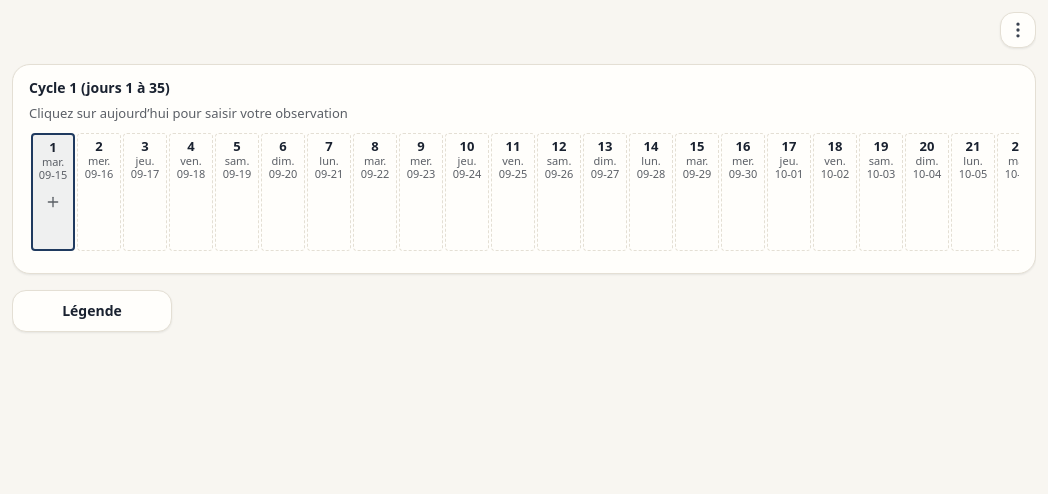
French text of the components › translates the chart menu and the legend button
Click the button "Légende".
click(92, 311)  # box [12,290,172,332]
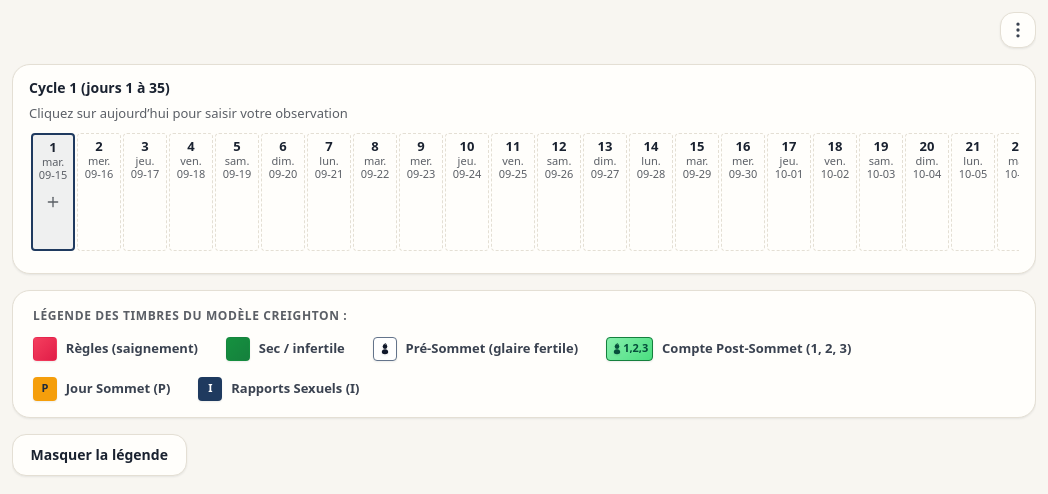
Expected: the button "Masquer la légende" is shown, [12,434,186,476]
